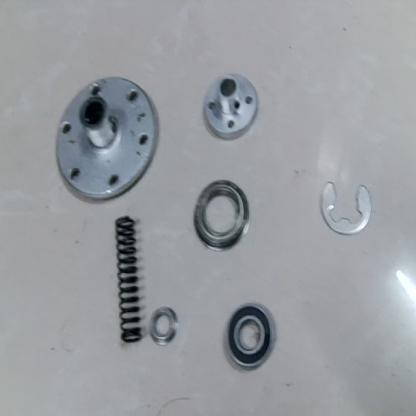FOD: (54, 73, 160, 211), (200, 70, 263, 142), (192, 178, 251, 254), (222, 302, 280, 376), (112, 216, 145, 346), (318, 174, 377, 237), (148, 304, 181, 352)
